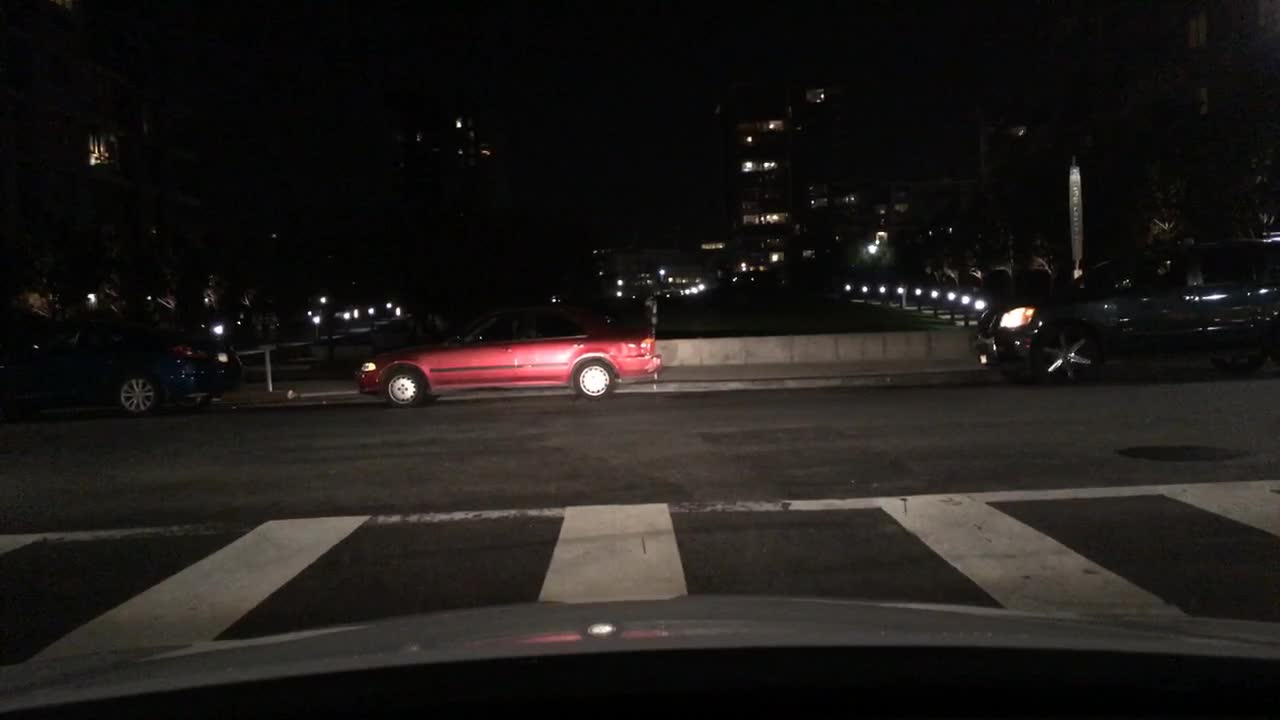car: (976, 238, 1277, 381), (352, 296, 664, 404), (2, 313, 240, 422), (182, 287, 281, 344), (968, 281, 1050, 322), (251, 293, 329, 336), (934, 274, 995, 313), (308, 293, 361, 327), (911, 281, 961, 305), (364, 293, 403, 320), (868, 278, 910, 301), (346, 298, 384, 323), (836, 274, 871, 296)
